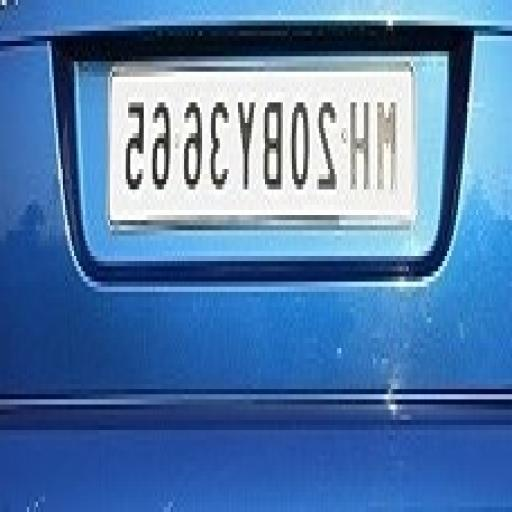License: (105, 48, 423, 225)
